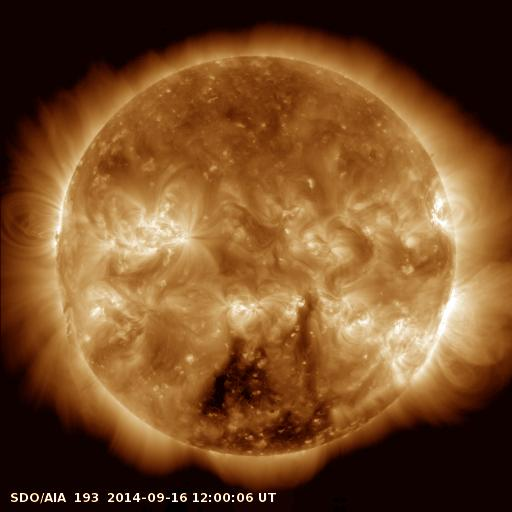coronal_hole: (191, 332, 350, 453)
